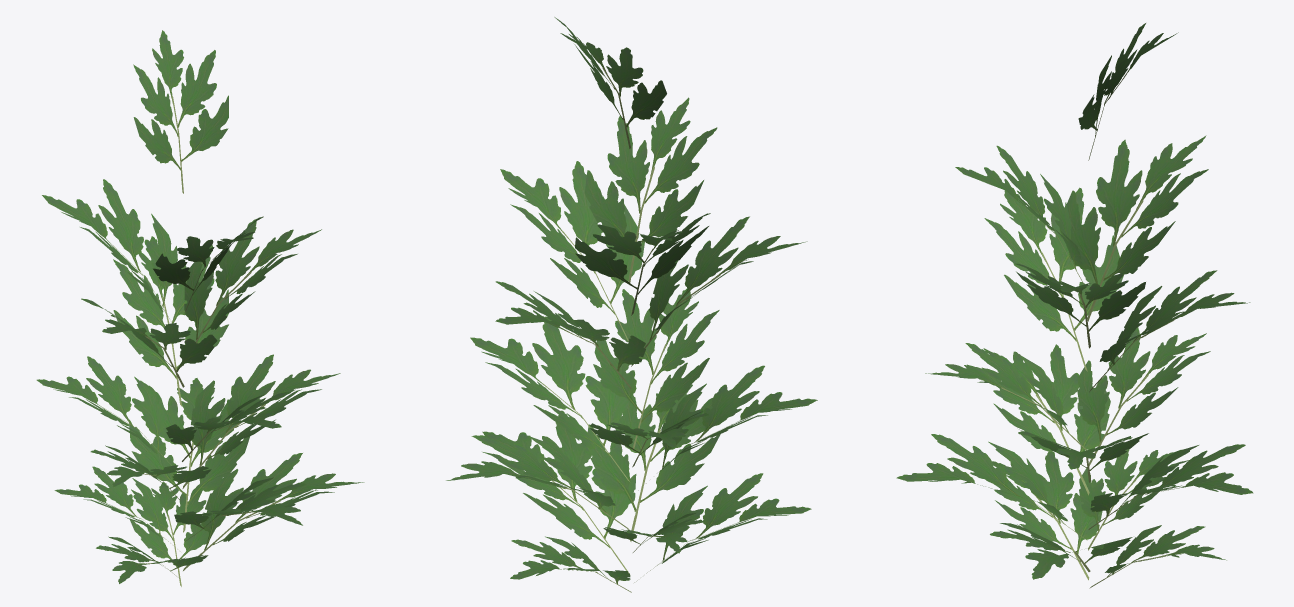
The model's file is Plant2.fbx.
3 renders of one model, left to right at view 1: azimuth 30°, elevation 25°; view 2: azimuth 150°, elevation 25°; view 3: azimuth 270°, elevation 25°, orthographic. The views are drawn at different scales.
Visible parts, largest first — view 1: Tree_0; view 2: Tree_0; view 3: Tree_0.
Part boxes in pixels (<box>): Tree_0: <box>36,30,364,586</box>; Tree_0: <box>446,17,817,592</box>; Tree_0: <box>896,23,1253,588</box>.
Bounding box in the file's own units: 56.55 × 91.12 × 58.03.
Materials: 1 (1 with a texture image).
